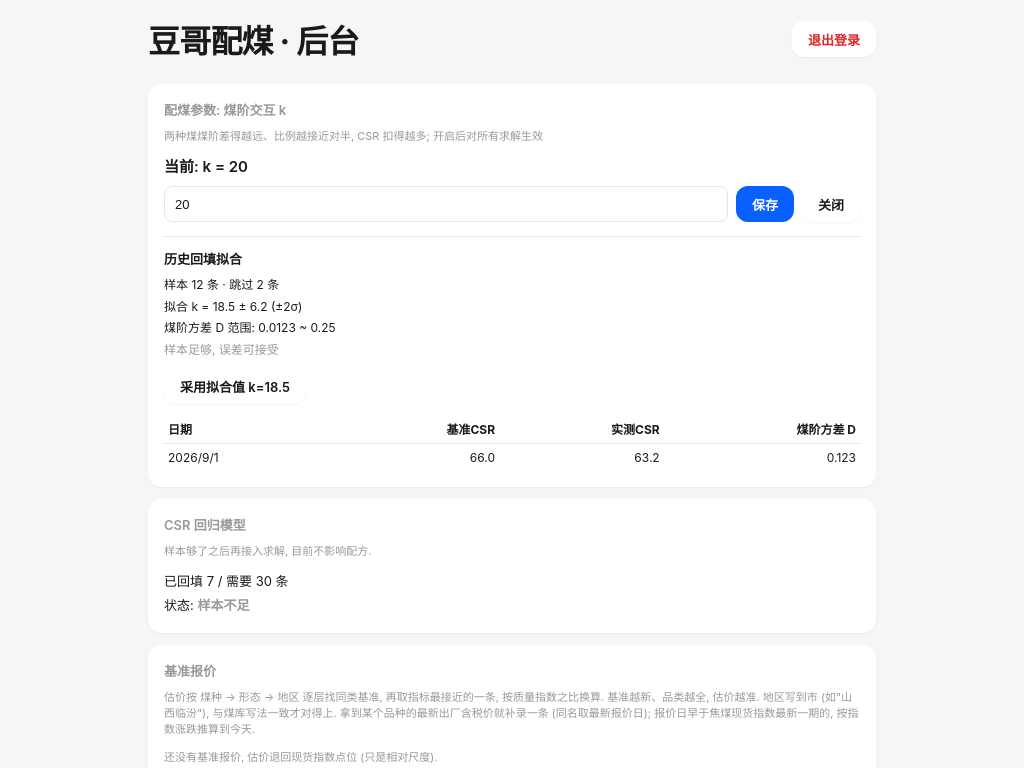
Scenario: AdminScreen 煤阶交互 k › 关闭按钮写入 null
The width and height of the screenshot is (1024, 768).
Check: the text "当前: k = 20" is shown, box [164,157,248,176]
Click the button "关闭". click: (831, 204)
box: [802,186,860,222]
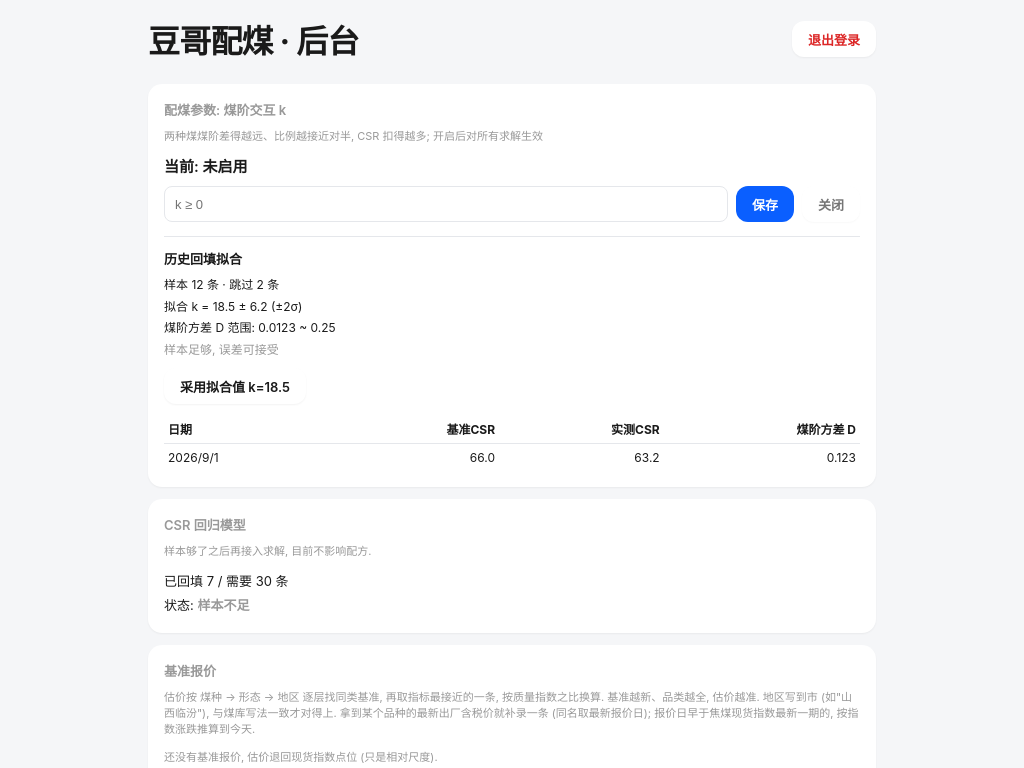
Check: the text "当前: 未启用" is shown, box [164,157,248,176]
